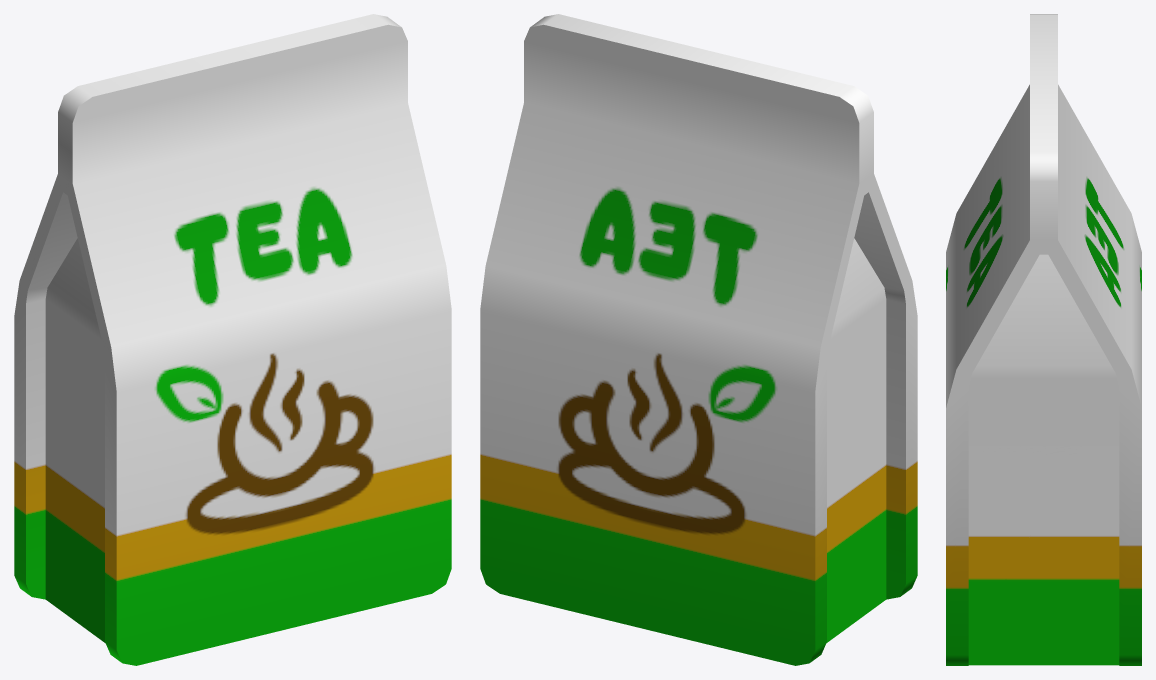
File: Packet_Tea_01.fbx
The picture shows the model from 3 angles, left to right: view 1: azimuth 30°, elevation 25°; view 2: azimuth 150°, elevation 25°; view 3: azimuth 270°, elevation 25°; orthographic projection. The views are drawn at different scales.
Visible parts, largest first — view 1: Packet_Tea_01; view 2: Packet_Tea_01; view 3: Packet_Tea_01.
Part boxes in pixels (x1,y1,x2,y2): Packet_Tea_01: [14, 14, 451, 665]; Packet_Tea_01: [480, 14, 917, 665]; Packet_Tea_01: [946, 14, 1141, 665].
Size of the model in its own units: 55.25 by 84.6 by 29.27.
